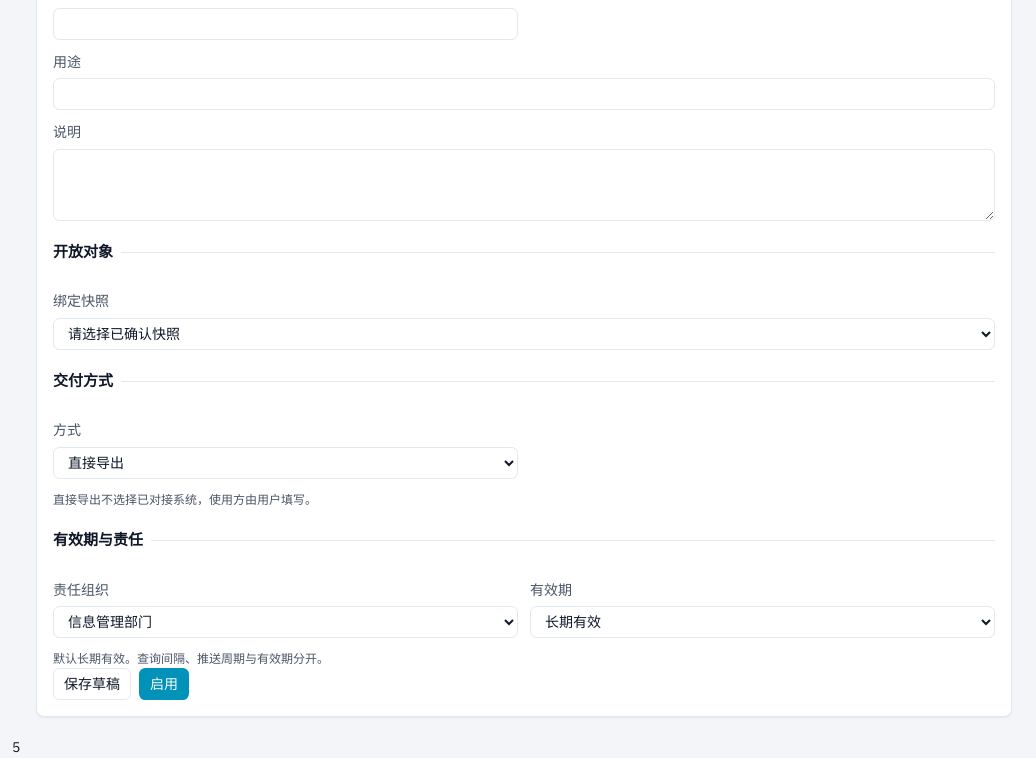
Test: 数据开放页面 › 启用失败留在表单、显示就地错误且不产生草稿
This screenshot has width=1036, height=758.
(page scrolled)
Click the button with test id "enable-open": x=164, y=684 [139,668,189,700]
(page scrolled)
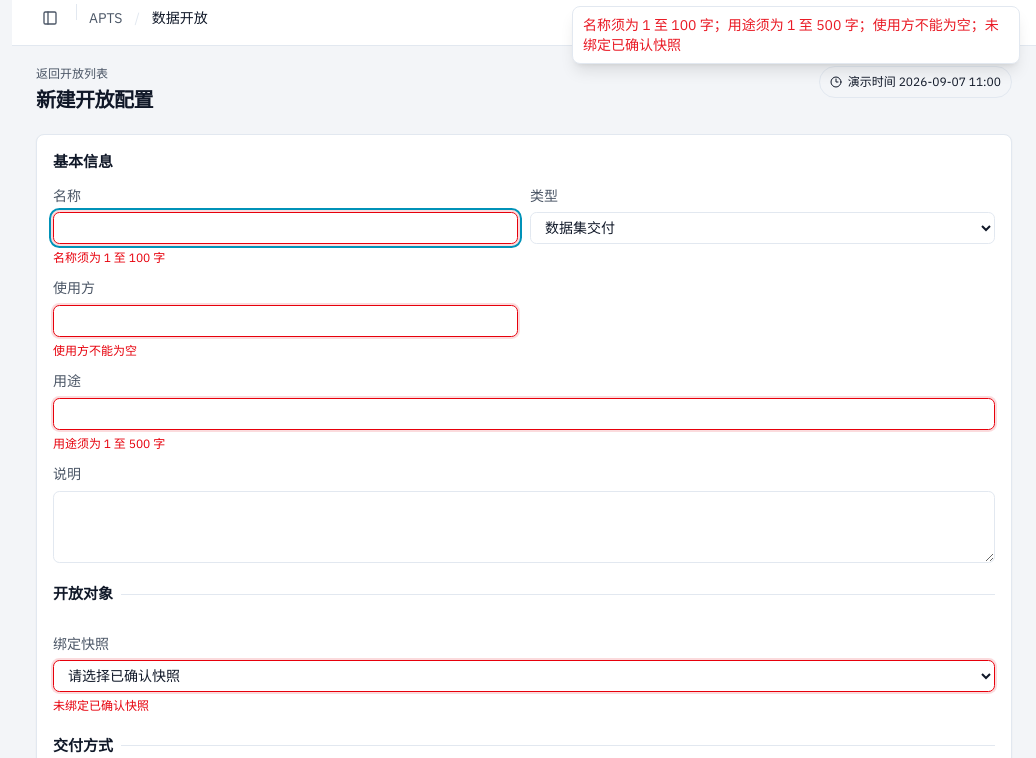
Expected: the heading "新建开放配置" is shown, [36,86,153,114]
Result: the text "名称须为 1 至 100 字" is shown at [53,250,165,265]
